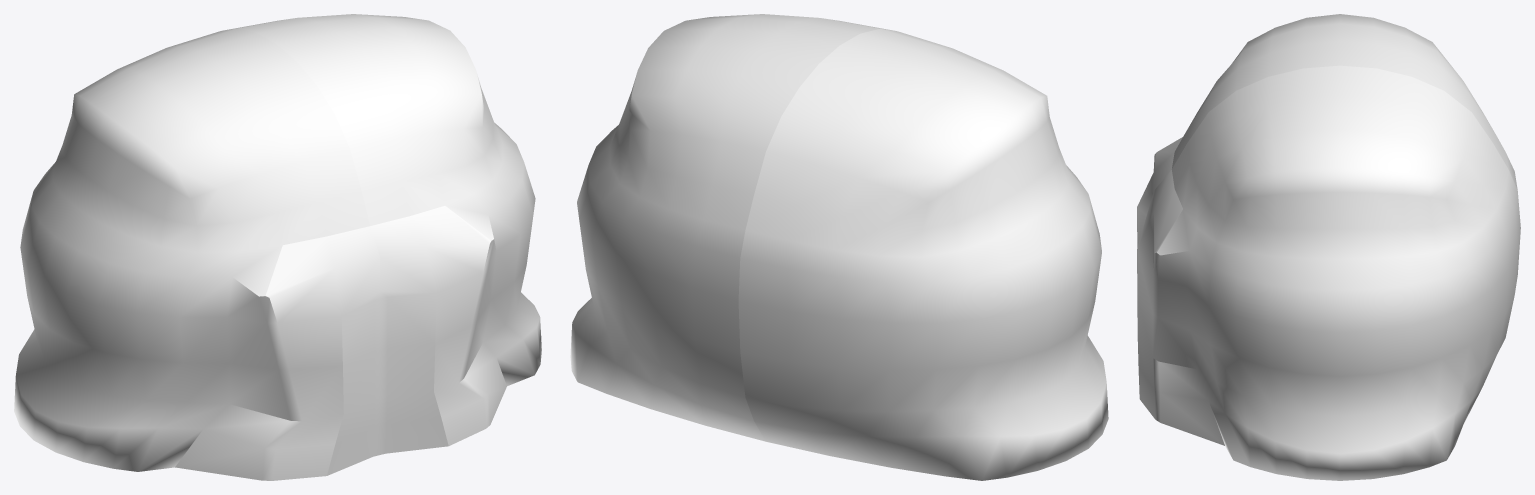
File: catBody.fbx
3 renders of one model, left to right at view 1: azimuth 30°, elevation 25°; view 2: azimuth 150°, elevation 25°; view 3: azimuth 270°, elevation 25°, orthographic. The views are drawn at different scales.
Visible parts, largest first — view 1: pCube11; view 2: pCube11; view 3: pCube11.
Part boxes in pixels (bbox=[...]): pCube11: bbox=[14, 14, 541, 480]; pCube11: bbox=[570, 14, 1108, 480]; pCube11: bbox=[1137, 14, 1520, 480].
Bounding box in the file's own units: 11.46 × 7.52 × 8.54.
1 material, 1 textured.
